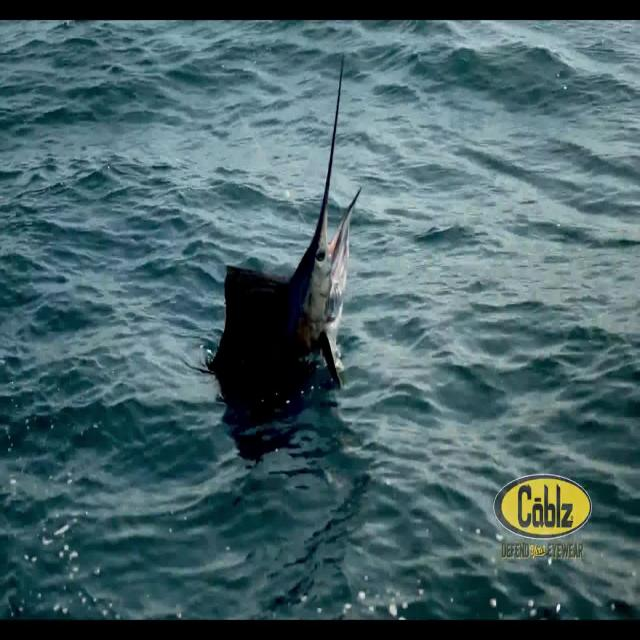Sail Fish: (205, 51, 362, 416)
